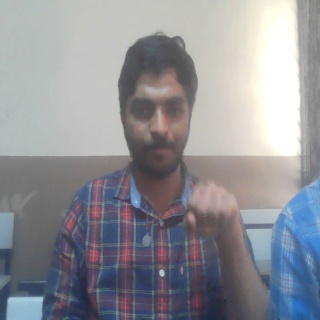Face: (120, 34, 198, 178)
Yes: (182, 182, 245, 247)
